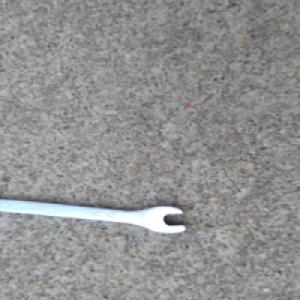Wrench: (0, 196, 189, 234)
